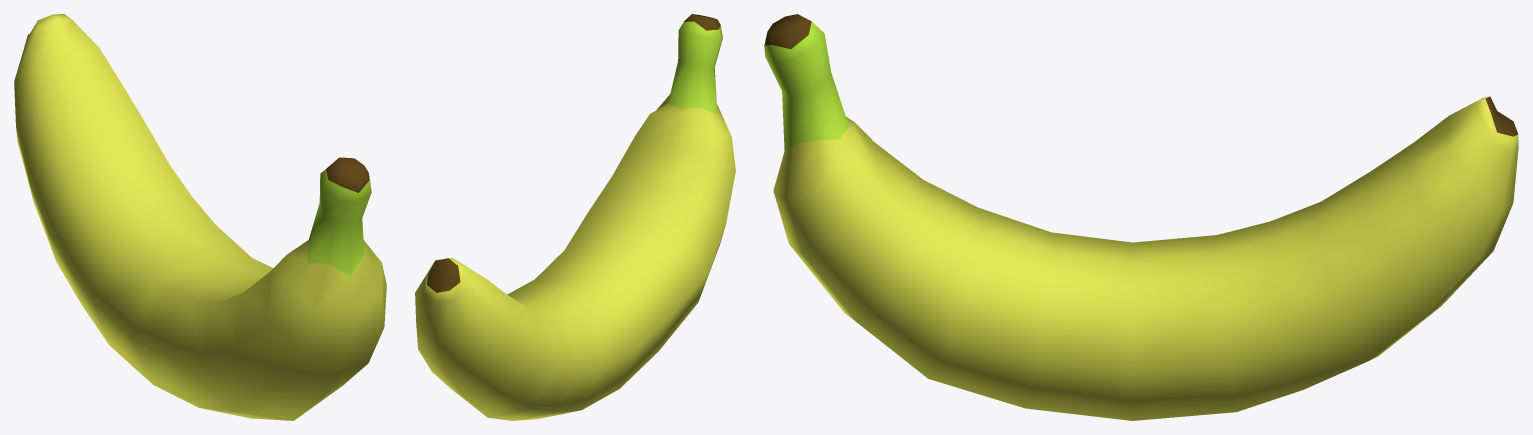
The model's file is Banana.fbx.
The picture shows the model from 3 angles, left to right: view 1: azimuth 30°, elevation 25°; view 2: azimuth 150°, elevation 25°; view 3: azimuth 270°, elevation 25°; orthographic projection. The views are drawn at different scales.
Parts seen in each view (by area): view 1: Cylinder.002; view 2: Cylinder.002; view 3: Cylinder.002.
Boxes of the visible parts, x1,y1,x2,y2 form: Cylinder.002: (14, 14, 386, 420); Cylinder.002: (415, 14, 735, 420); Cylinder.002: (764, 14, 1518, 420).
Size of the model in its own units: 0.049 by 0.1043 by 0.1781.
